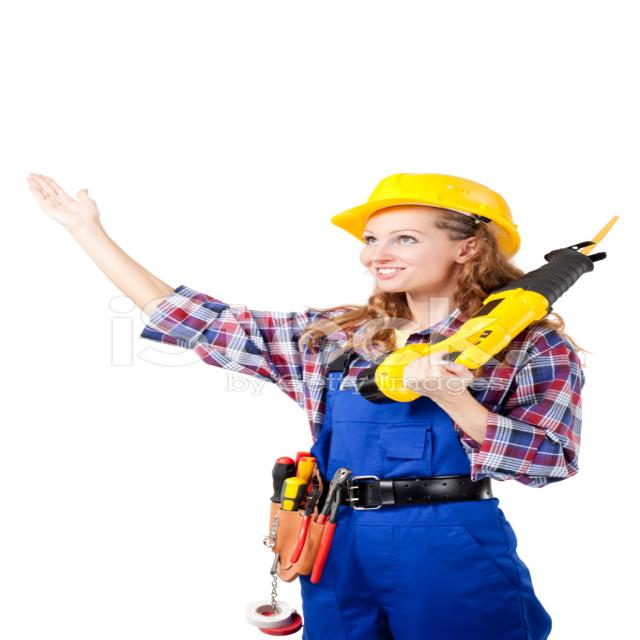Hard Hat: (324, 156, 531, 258)
